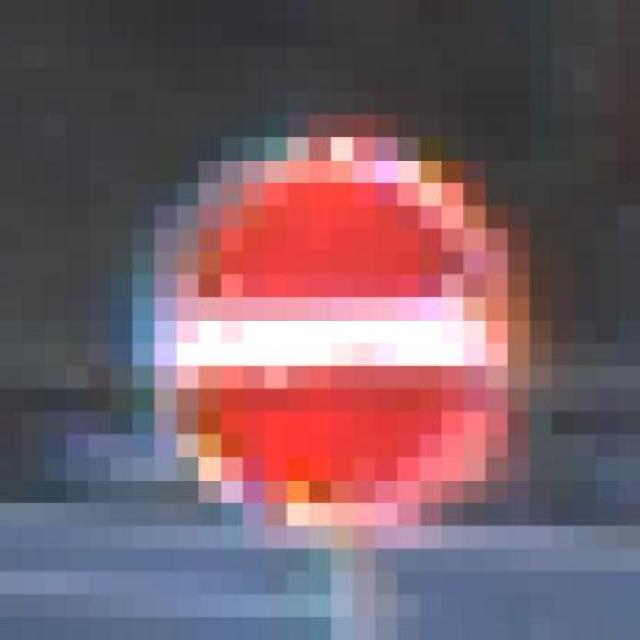No Entry: (111, 91, 574, 572)
